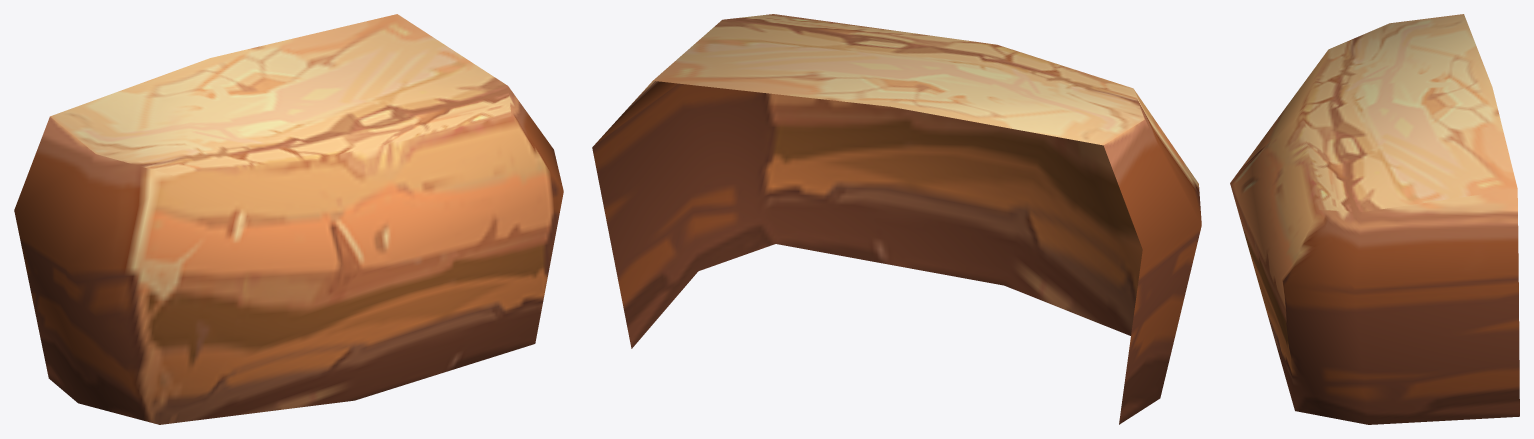
The model's file is Chapter1Scene1Model10.FBX.
The picture shows the model from 3 angles, left to right: view 1: azimuth 30°, elevation 25°; view 2: azimuth 150°, elevation 25°; view 3: azimuth 270°, elevation 25°; orthographic projection. The views are drawn at different scales.
Visible parts, largest first — view 1: Chapter1Scene1Model10; view 2: Chapter1Scene1Model10; view 3: Chapter1Scene1Model10.
Part boxes in pixels (<box>): Chapter1Scene1Model10: <box>14,14,563,424</box>; Chapter1Scene1Model10: <box>592,14,1201,424</box>; Chapter1Scene1Model10: <box>1230,14,1519,424</box>.
Bounding box in the file's own units: 104 × 60.84 × 54.08.
